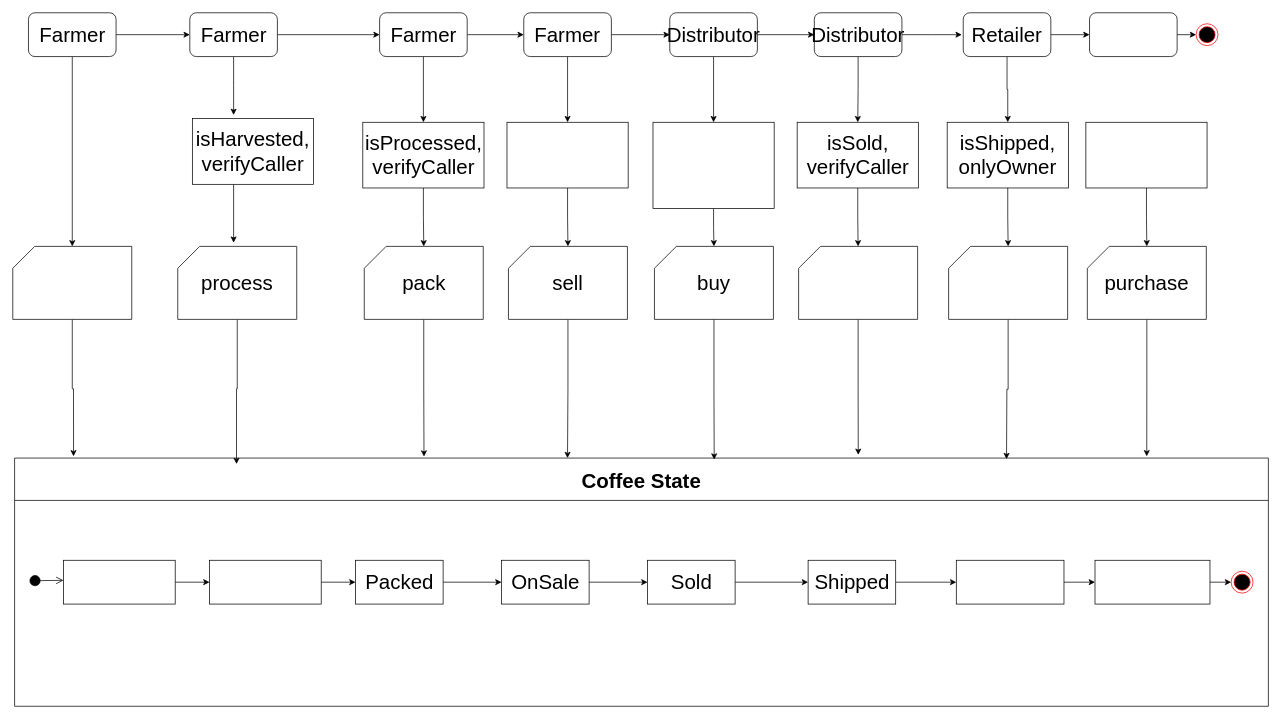
The diagram is 1281 pixels wide and 719 high, and some of its shapes have lost their labels. The shapes that lost their labels are listed below. From the top down, each one's box as (x1, y1, x2, y2) in pixels, then its label:
(1089, 12, 1177, 57): Consumer
(506, 122, 628, 188): isPacked, verifyCaller
(652, 122, 774, 208): isOnSale, paidEnough, checkValue
(1085, 122, 1207, 188): isRecieved, onlyOwner
(12, 246, 132, 319): harvest
(798, 246, 918, 319): ship
(948, 246, 1068, 319): recieve
(63, 560, 175, 604): Harvested
(209, 560, 321, 604): Processed
(956, 560, 1064, 604): Received
(1094, 560, 1210, 604): Purchased
